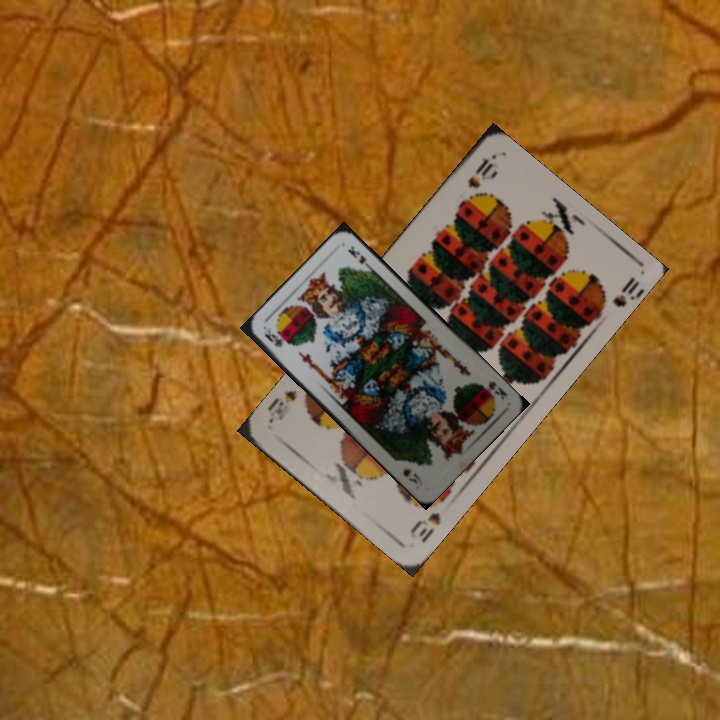S10: (405, 493, 449, 546), (463, 153, 498, 191)
SK: (476, 377, 510, 402), (260, 324, 286, 350)
